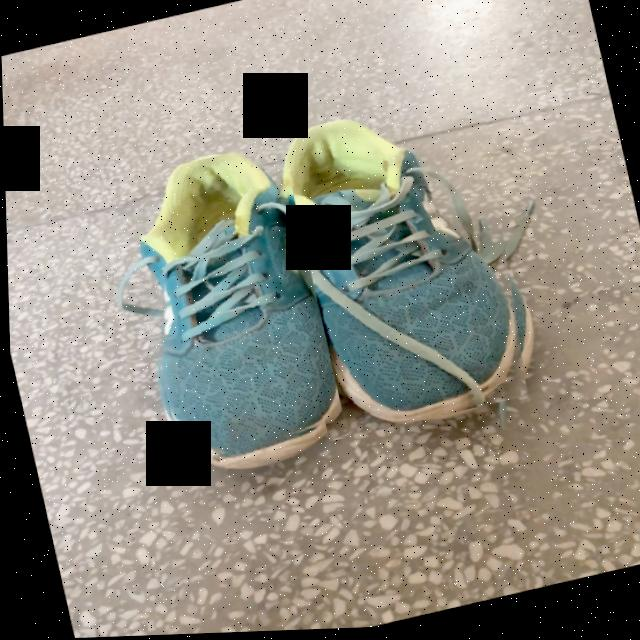shoe: (274, 124, 520, 426), (135, 155, 332, 455)
